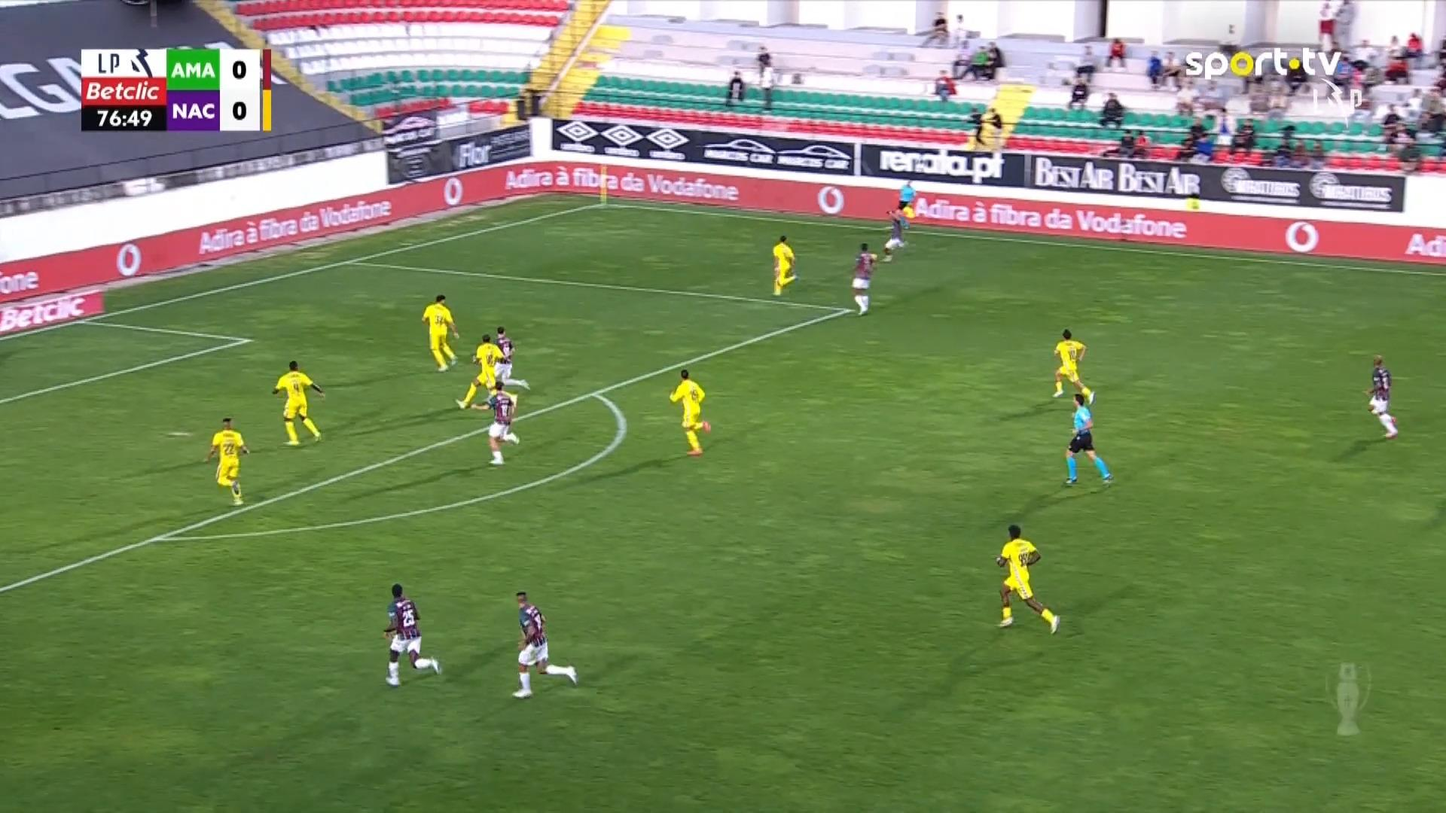player: (995, 523, 1060, 635), (511, 590, 578, 698), (381, 582, 441, 687), (271, 359, 325, 446), (455, 333, 511, 409), (203, 416, 249, 505), (472, 381, 519, 465), (668, 367, 710, 456), (1051, 327, 1095, 405), (421, 294, 459, 372), (1364, 354, 1398, 438), (492, 325, 531, 391), (850, 242, 877, 315), (771, 233, 797, 296), (882, 204, 908, 261)
referee: (1063, 389, 1113, 485), (897, 179, 917, 227)
